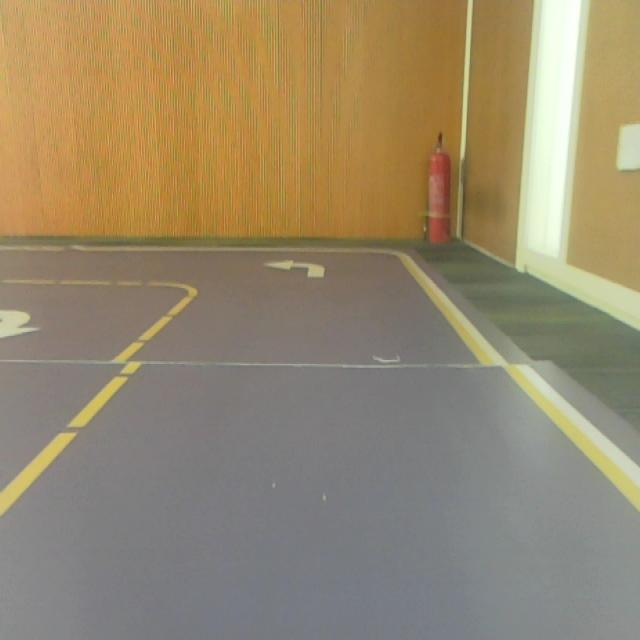left_lane: (399, 256, 640, 514), (0, 290, 198, 520)
